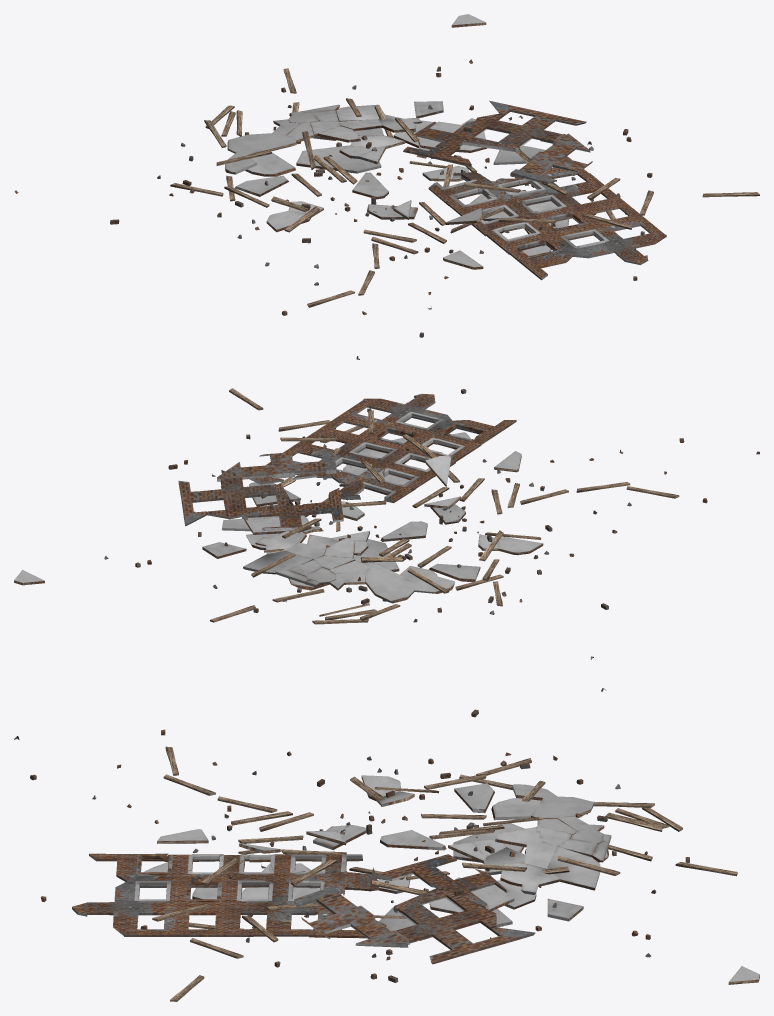
The model's file is Debris_02.fbx.
The picture shows the model from 3 angles, top to bottom: view 1: azimuth 30°, elevation 25°; view 2: azimuth 150°, elevation 25°; view 3: azimuth 270°, elevation 25°; orthographic projection. The views are drawn at different scales.
Parts seen in each view (by area): view 1: Debris2_LOD0_LOD0_LOD0_LOD0; view 2: Debris2_LOD0_LOD0_LOD0_LOD0; view 3: Debris2_LOD0_LOD0_LOD0_LOD0.
Boxes of the visible parts, bbox=[...] form: Debris2_LOD0_LOD0_LOD0_LOD0: bbox=[14, 14, 759, 359]; Debris2_LOD0_LOD0_LOD0_LOD0: bbox=[14, 388, 759, 659]; Debris2_LOD0_LOD0_LOD0_LOD0: bbox=[14, 688, 759, 1001].
Bounding box in the file's own units: 960 × 35.47 × 971.
